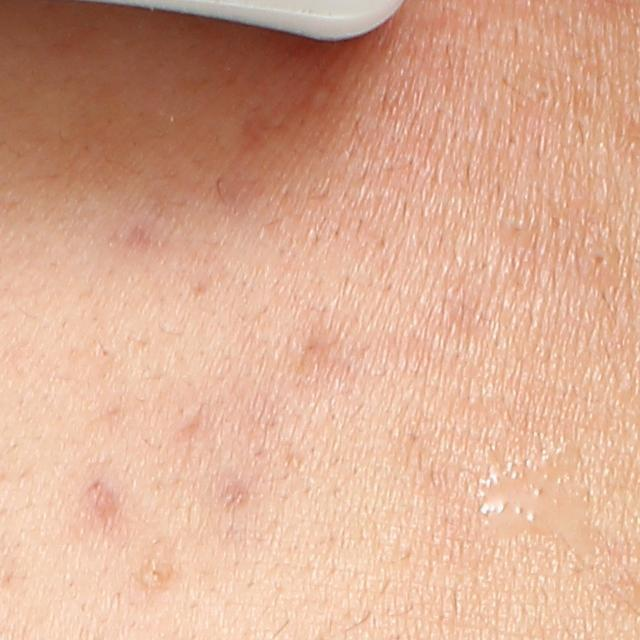atrophic_scar: (176, 397, 206, 443)
comedo: (143, 553, 179, 593), (582, 246, 613, 280)
